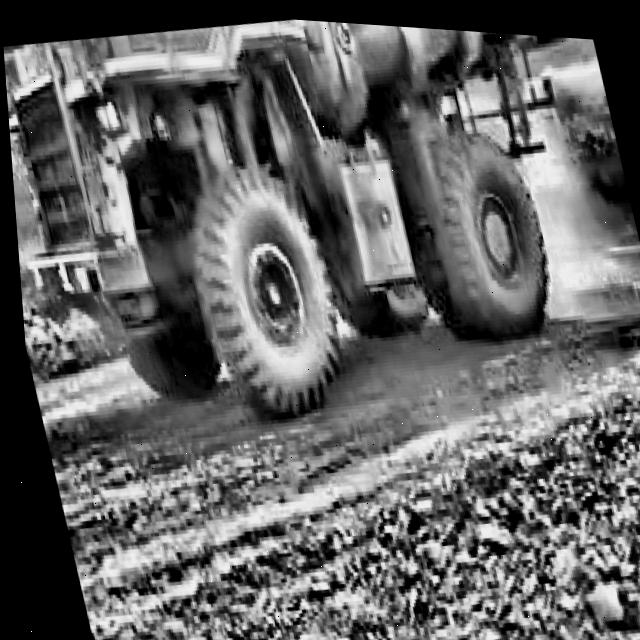dump_truck: (0, 0, 624, 448)
